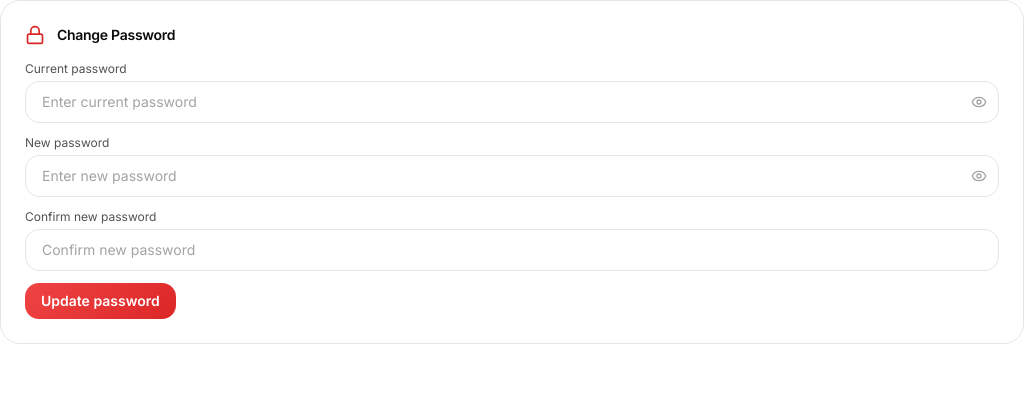
ChangePasswordForm › shows the API error message
In the password field with placeholder "Enter current password": point(512, 102) x1=25 y1=81 x2=999 y2=123, type "old-password"
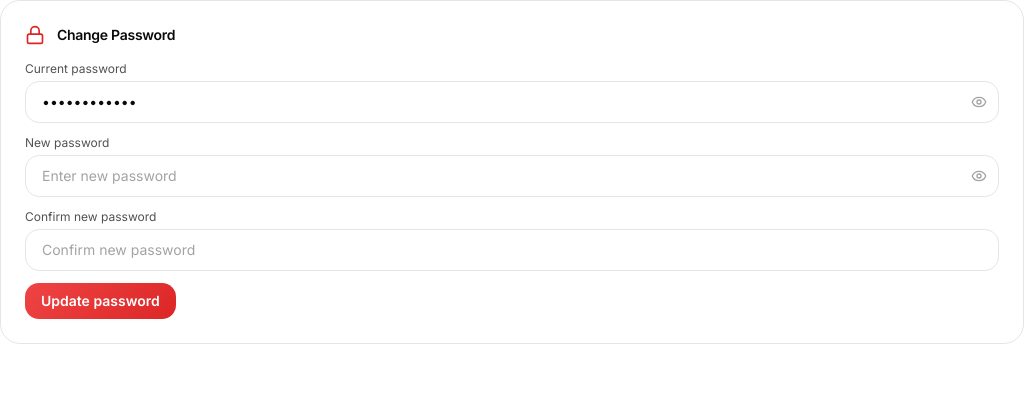
In the password field with placeholder "Enter new password": point(512, 176) x1=25 y1=155 x2=999 y2=197, type "Abcdefgh123!"
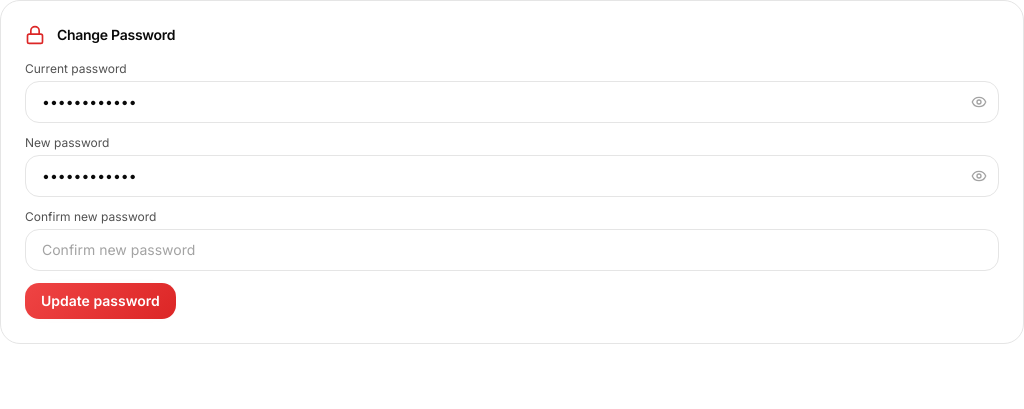
In the password field with placeholder "Confirm new password": point(512, 250) x1=25 y1=229 x2=999 y2=271, type "Abcdefgh123!"
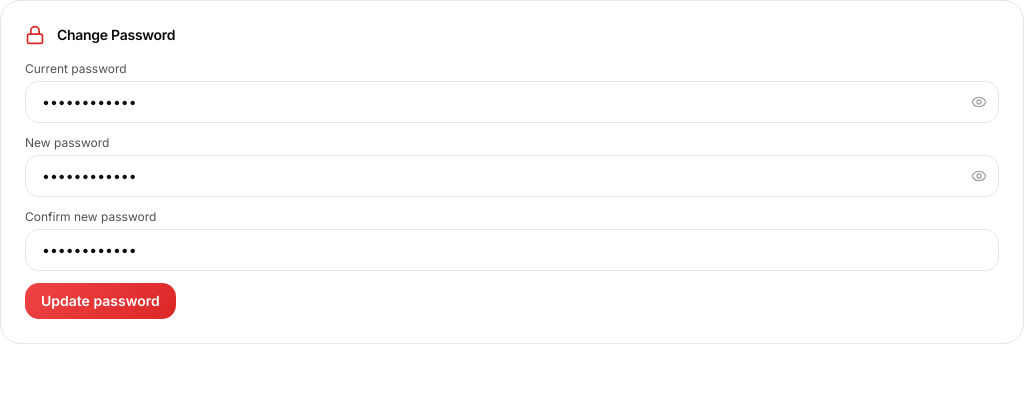
Click the button "Update password": point(100, 301) x1=25 y1=283 x2=176 y2=319
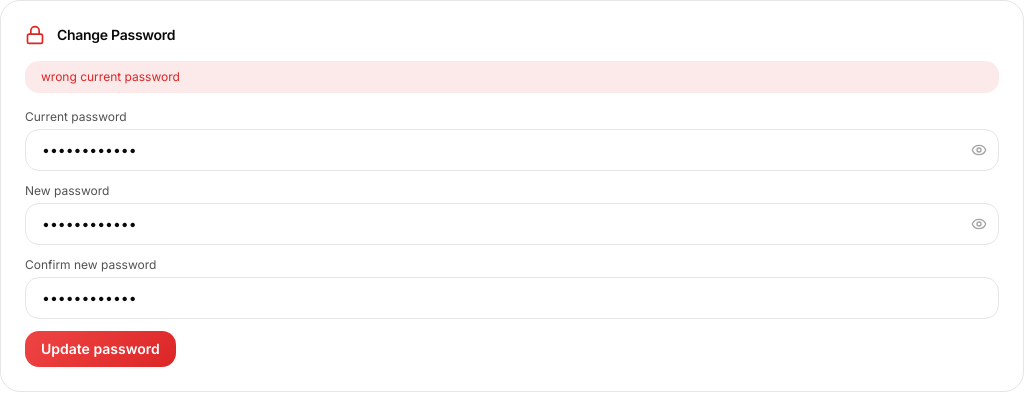
Check: the text "wrong current password" is shown, box x1=25 y1=61 x2=999 y2=93
